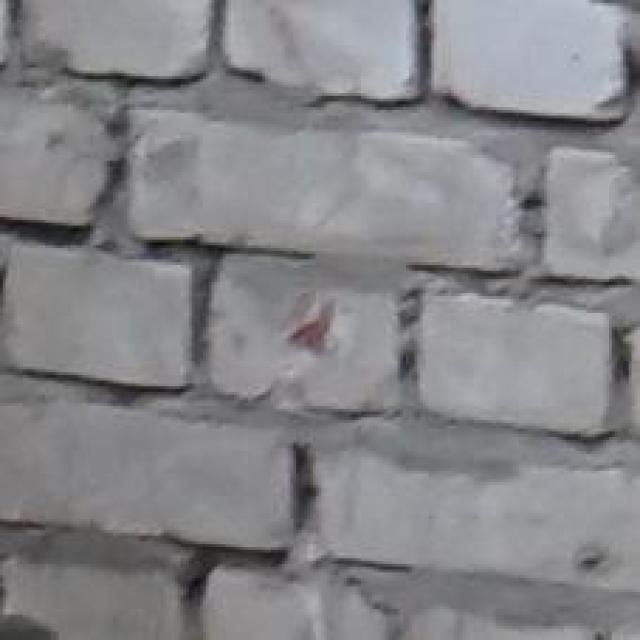Crack: (0, 98, 406, 640)
